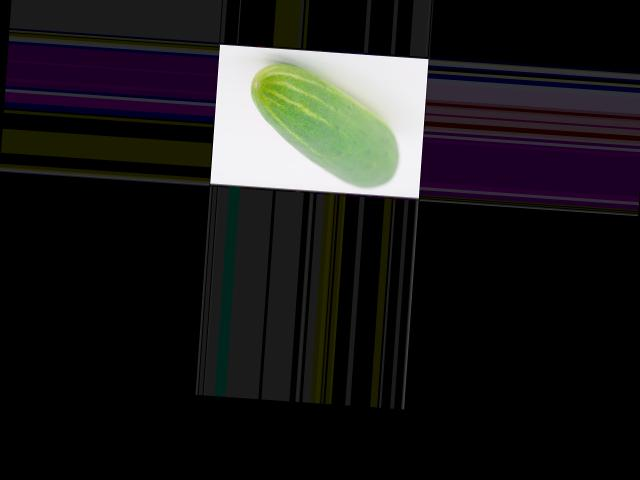cucumber: (245, 61, 405, 189)
